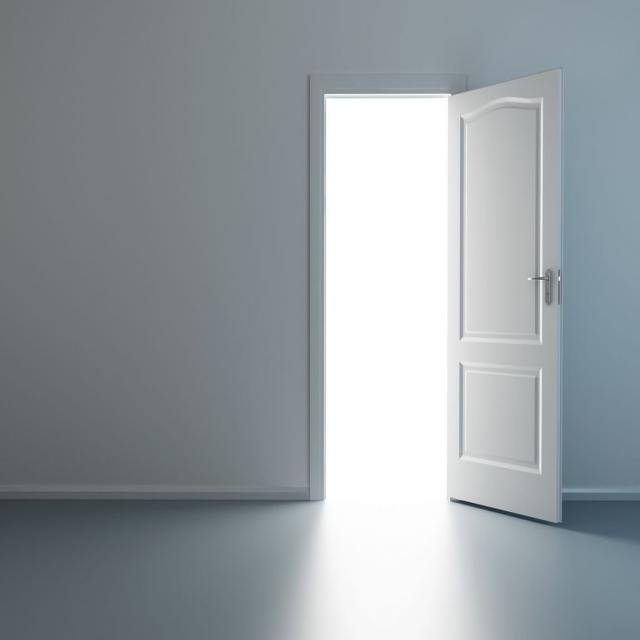open: (310, 79, 564, 515)
